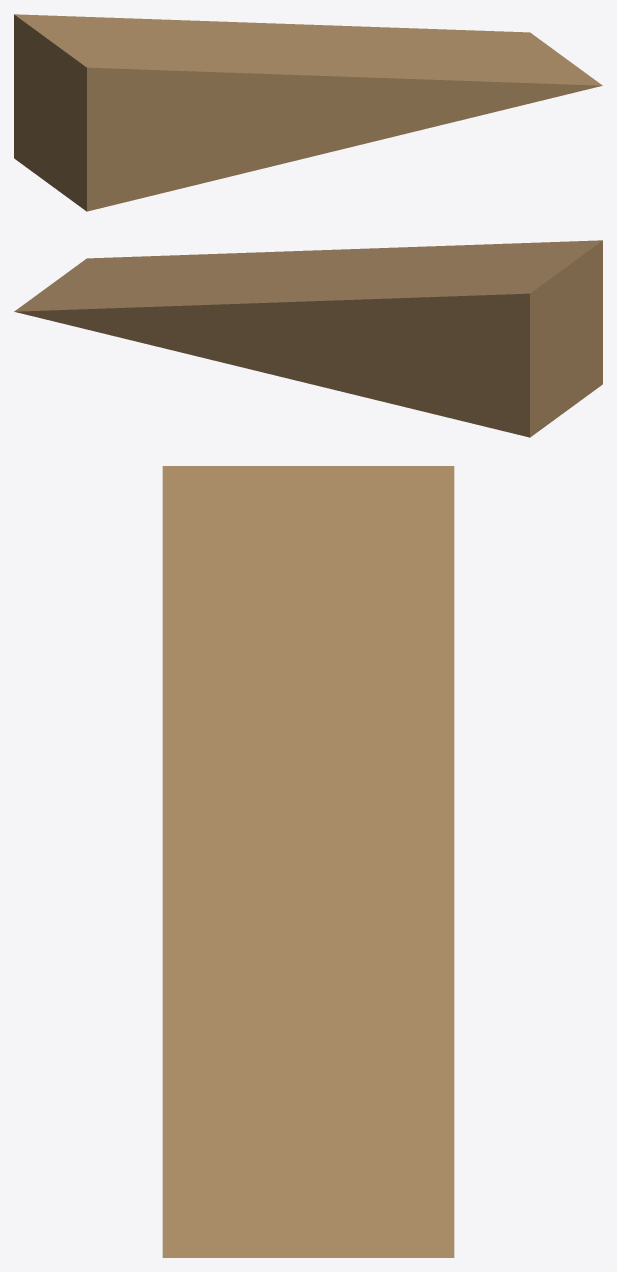
The model's file is prop-rabbet-plane-wedge-rb1.fbx.
3 views of the same model, one above another, from view 1: azimuth 30°, elevation 25°; view 2: azimuth 150°, elevation 25°; view 3: azimuth 270°, elevation 25° (orthographic). The views are drawn at different scales.
Parts seen in each view (by area): view 1: prop-rabbet-plane-wedge-rb1; view 2: prop-rabbet-plane-wedge-rb1; view 3: prop-rabbet-plane-wedge-rb1.
Part boxes in pixels (<box>): prop-rabbet-plane-wedge-rb1: <box>14,14,602,211</box>; prop-rabbet-plane-wedge-rb1: <box>14,240,602,437</box>; prop-rabbet-plane-wedge-rb1: <box>162,466,454,1257</box>.
Bounding box in the file's own units: 0.09 × 0.024 × 0.022.
